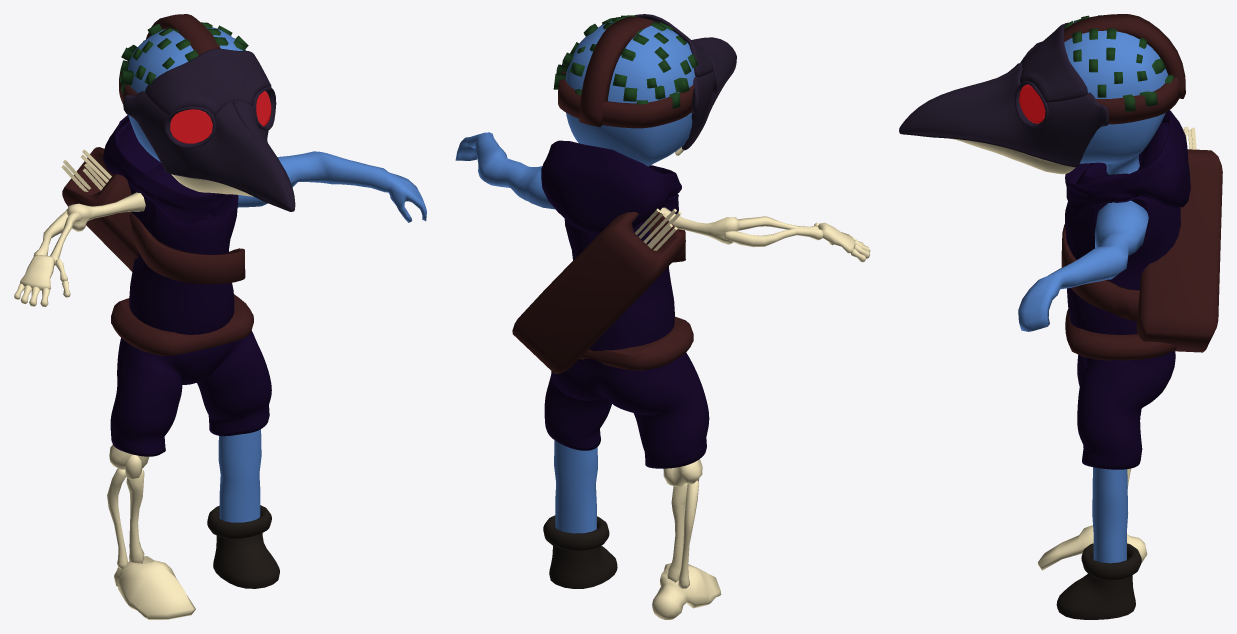
The model's file is Ranger.fbx.
3 views of the same model, side by side, from view 1: azimuth 30°, elevation 25°; view 2: azimuth 150°, elevation 25°; view 3: azimuth 270°, elevation 25° (orthographic). The views are drawn at different scales.
Visible parts, largest first — view 1: Mask(Ranger), Pants(Ranger), Torso(Ranger), Bag(Ranger), R_Leg(Ranger), Hood(Ranger), L_Arm(Ranger), L_Shoe(Ranger), R_Arm(Ranger), Belt(Grunt).001, L_Leg(Ranger), Head(Ranger) (+3 smaller); view 2: Pants(Ranger), Bag(Ranger), Hood(Ranger), Head(Ranger), Straps(Ranger), R_Leg(Ranger), Torso(Ranger), L_Shoe(Ranger), L_Leg(Ranger), R_Arm(Ranger), Mask(Ranger), L_Arm(Ranger) (+3 smaller); view 3: Mask(Ranger), Bag(Ranger), Pants(Ranger), Head(Ranger), Torso(Ranger), Hood(Ranger), L_Arm(Ranger), Straps(Ranger), L_Shoe(Ranger), L_Leg(Ranger), Belt(Grunt).001, Hair(Ranger) (+1 smaller).
Boxes of the visible parts, x1,y1,x2,y2 form: Mask(Ranger): [123, 48, 295, 211]; Pants(Ranger): [110, 330, 271, 456]; Torso(Ranger): [127, 163, 238, 334]; Bag(Ranger): [62, 147, 245, 284]; R_Leg(Ranger): [107, 445, 195, 619]; Hood(Ranger): [103, 115, 237, 226]; L_Arm(Ranger): [237, 151, 426, 222]; L_Shoe(Ranger): [207, 505, 279, 588]; R_Arm(Ranger): [14, 192, 145, 306]; Belt(Grunt).001: [111, 294, 253, 355]; L_Leg(Ranger): [218, 429, 261, 522]; Head(Ranger): [128, 27, 245, 161]; Pants(Ranger): [544, 352, 709, 468]; Bag(Ranger): [512, 212, 685, 373]; Hood(Ranger): [541, 140, 681, 234]; Head(Ranger): [565, 21, 695, 166]; Straps(Ranger): [558, 16, 694, 128]; R_Leg(Ranger): [652, 459, 721, 619]; Torso(Ranger): [564, 197, 678, 366]; L_Shoe(Ranger): [543, 515, 617, 588]; L_Leg(Ranger): [554, 440, 597, 533]; R_Arm(Ranger): [659, 207, 870, 262]; Mask(Ranger): [562, 14, 736, 155]; L_Arm(Ranger): [455, 132, 554, 209]; Mask(Ranger): [899, 22, 1109, 174]; Bag(Ranger): [1061, 149, 1222, 352]; Pants(Ranger): [1077, 351, 1175, 469]; Head(Ranger): [1064, 21, 1167, 174]; Torso(Ranger): [1065, 162, 1180, 334]; Hood(Ranger): [1065, 110, 1190, 217]; L_Arm(Ranger): [1018, 200, 1148, 331]; Straps(Ranger): [1064, 14, 1185, 124]; L_Shoe(Ranger): [1056, 543, 1141, 619]; L_Leg(Ranger): [1092, 467, 1128, 563]; Belt(Grunt).001: [1065, 309, 1176, 360]; Hair(Ranger): [1064, 15, 1173, 111].
Size of the model in its own units: 1250 by 1668 by 857.
